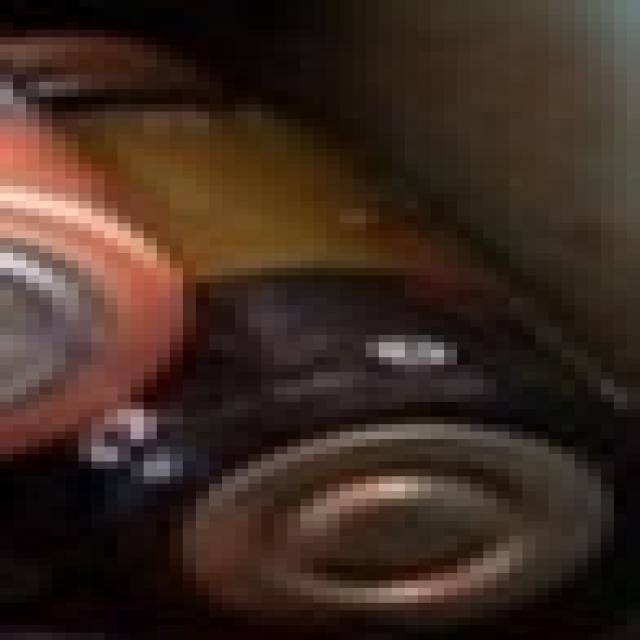battery: (52, 0, 640, 588)
